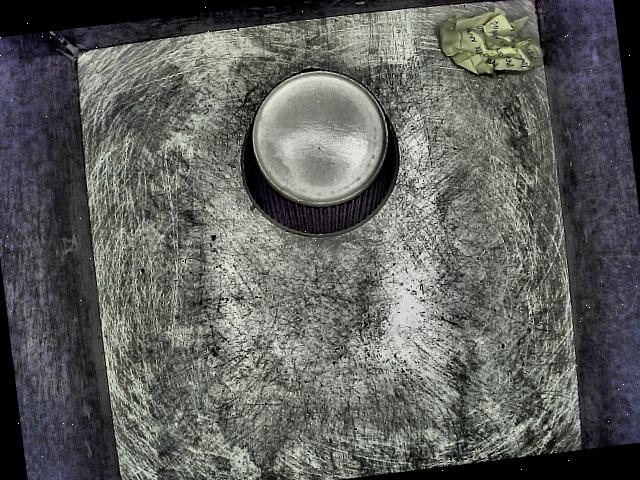Paper: (222, 43, 434, 264), (426, 0, 582, 91)
